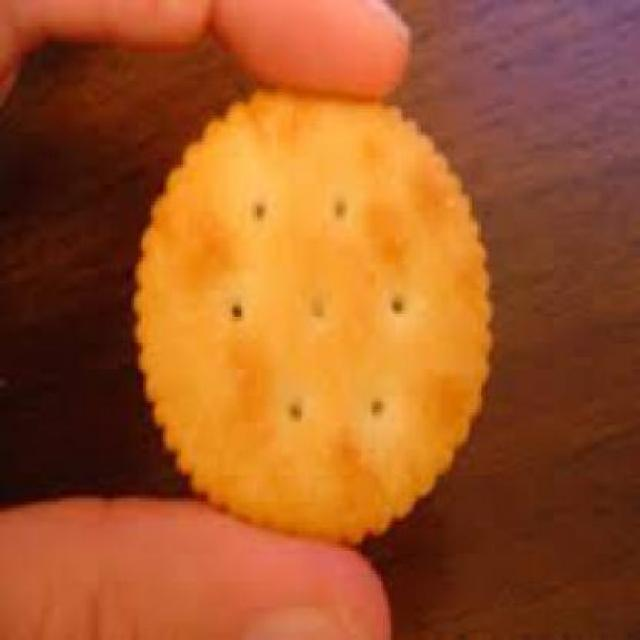Ritz cracker packaged: (116, 89, 499, 545)
